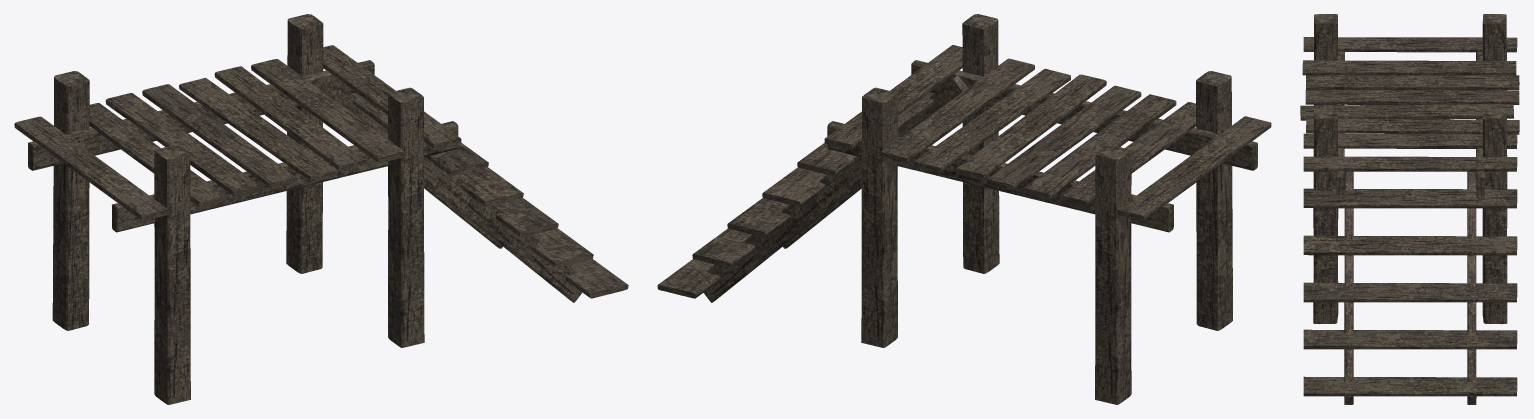
The model's file is platform.fbx.
3 renders of one model, left to right at view 1: azimuth 30°, elevation 25°; view 2: azimuth 150°, elevation 25°; view 3: azimuth 270°, elevation 25°, orthographic. The views are drawn at different scales.
Visible parts, largest first — view 1: Cube.001, Cube.002, Cube.006, Cube.003, Cube.005, Cube.004, Cube; view 2: Cube.001, Cube.002, Cube.006, Cube.003, Cube.005, Cube.004, Cube; view 3: Cube.006, Cube.002, Cube.001, Cube, Cube.005, Cube.004, Cube.003.
Boxes of the visible parts, x1,y1,x2,y2 form: Cube.001: (52,14,424,404); Cube.002: (89,59,405,207); Cube.006: (351,92,628,298); Cube.003: (28,60,458,232); Cube.005: (318,76,582,302); Cube.004: (14,116,169,220); Cube: (323,45,461,149); Cube.001: (861,14,1232,404); Cube.002: (880,58,1196,206); Cube.006: (657,92,934,298); Cube.003: (827,60,1257,232); Cube.005: (703,76,967,302); Cube.004: (1117,116,1271,220); Cube: (824,45,962,149); Cube.006: (1303,188,1517,396); Cube.002: (1300,60,1519,148); Cube.001: (1313,14,1507,324); Cube: (1303,156,1517,171); Cube.005: (1344,171,1476,404); Cube.004: (1303,37,1517,52); Cube.003: (1336,51,1484,198).
Size of the model in its own units: 3633 by 1832 by 1676.
